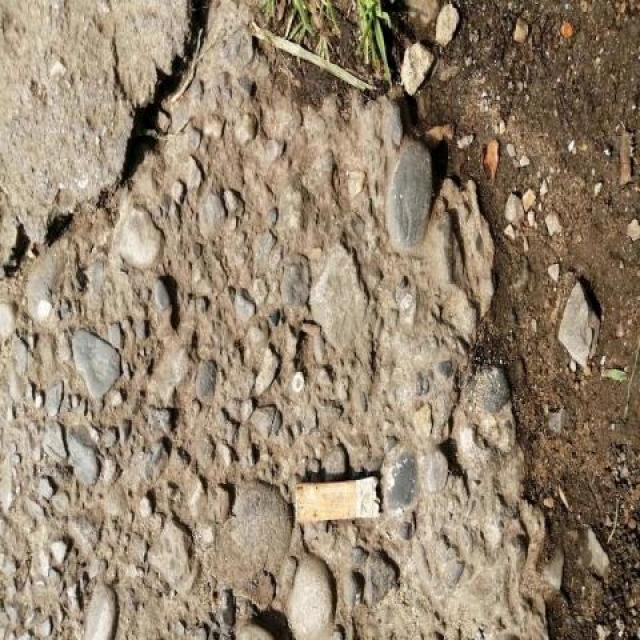non-organic waste: (290, 468, 386, 529)
